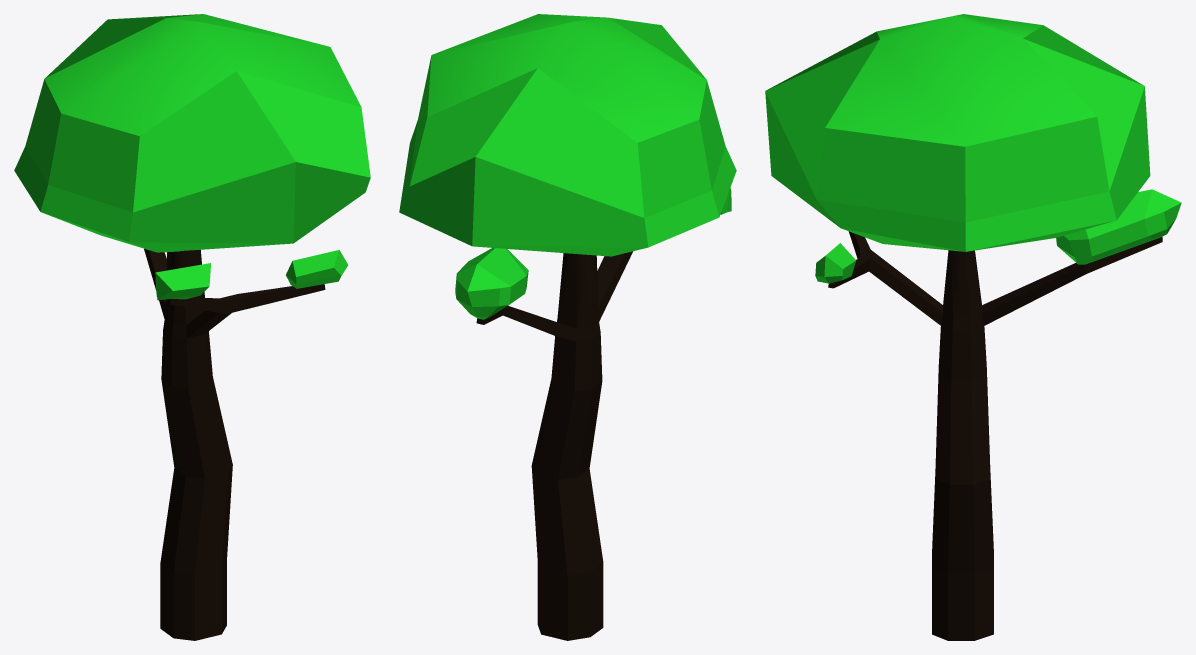
Rendered from tree_1.FBX.
3 views of the same model, side by side, from view 1: azimuth 30°, elevation 25°; view 2: azimuth 150°, elevation 25°; view 3: azimuth 270°, elevation 25° (orthographic).
Visible parts, largest first — view 1: Box001; view 2: Box001; view 3: Box001.
Part boxes in pixels (box(x1,y1,x2,y2)): Box001: box(14, 14, 370, 640); Box001: box(399, 14, 736, 640); Box001: box(765, 14, 1181, 640).
Bounding box in the file's own units: 113 × 211 × 130.
